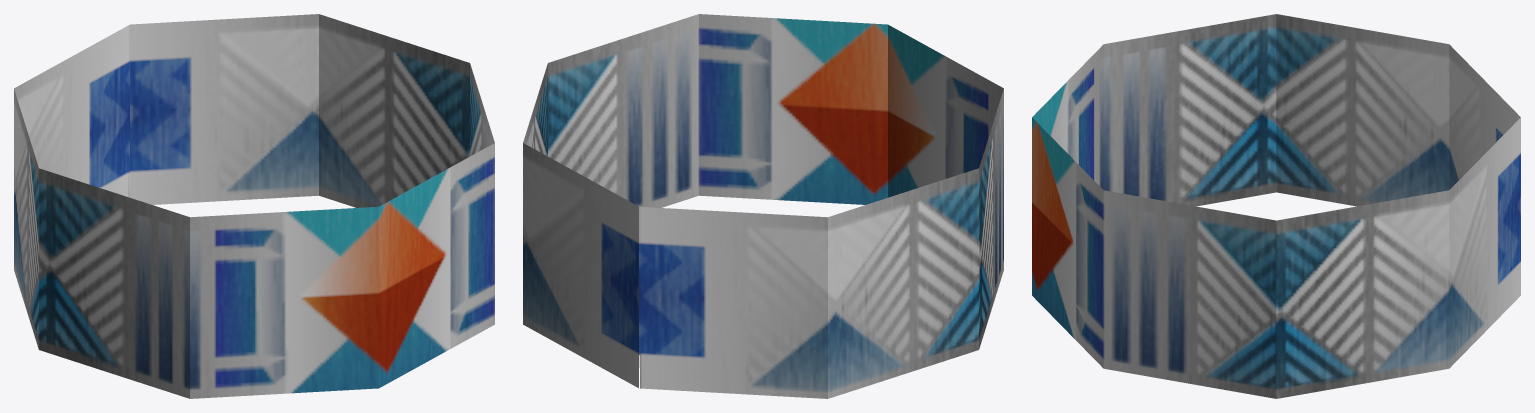
File: taste_6.obj
3 views of the same model, side by side, from view 1: azimuth 30°, elevation 25°; view 2: azimuth 150°, elevation 25°; view 3: azimuth 270°, elevation 25° (orthographic).
Parts seen in each view (by area): view 1: wheel_e; view 2: wheel_e; view 3: wheel_e.
Part boxes in pixels (x1,y1,x2,y2): wheel_e: (14, 14, 494, 398); wheel_e: (523, 14, 1003, 398); wheel_e: (1032, 14, 1520, 398).
Size of the model in its own units: 101 by 40.73 by 101.
Materials: 1 (1 with a texture image).
